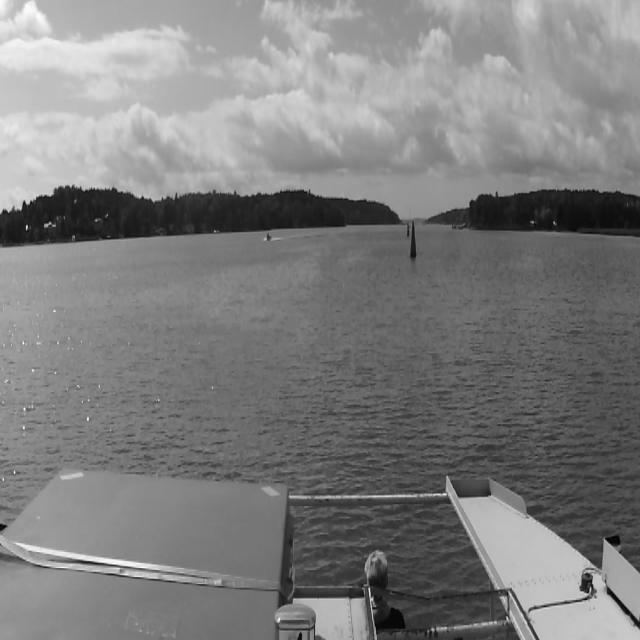buoy: (410, 220, 416, 257), (407, 222, 409, 236)
ship: (266, 233, 272, 241)
